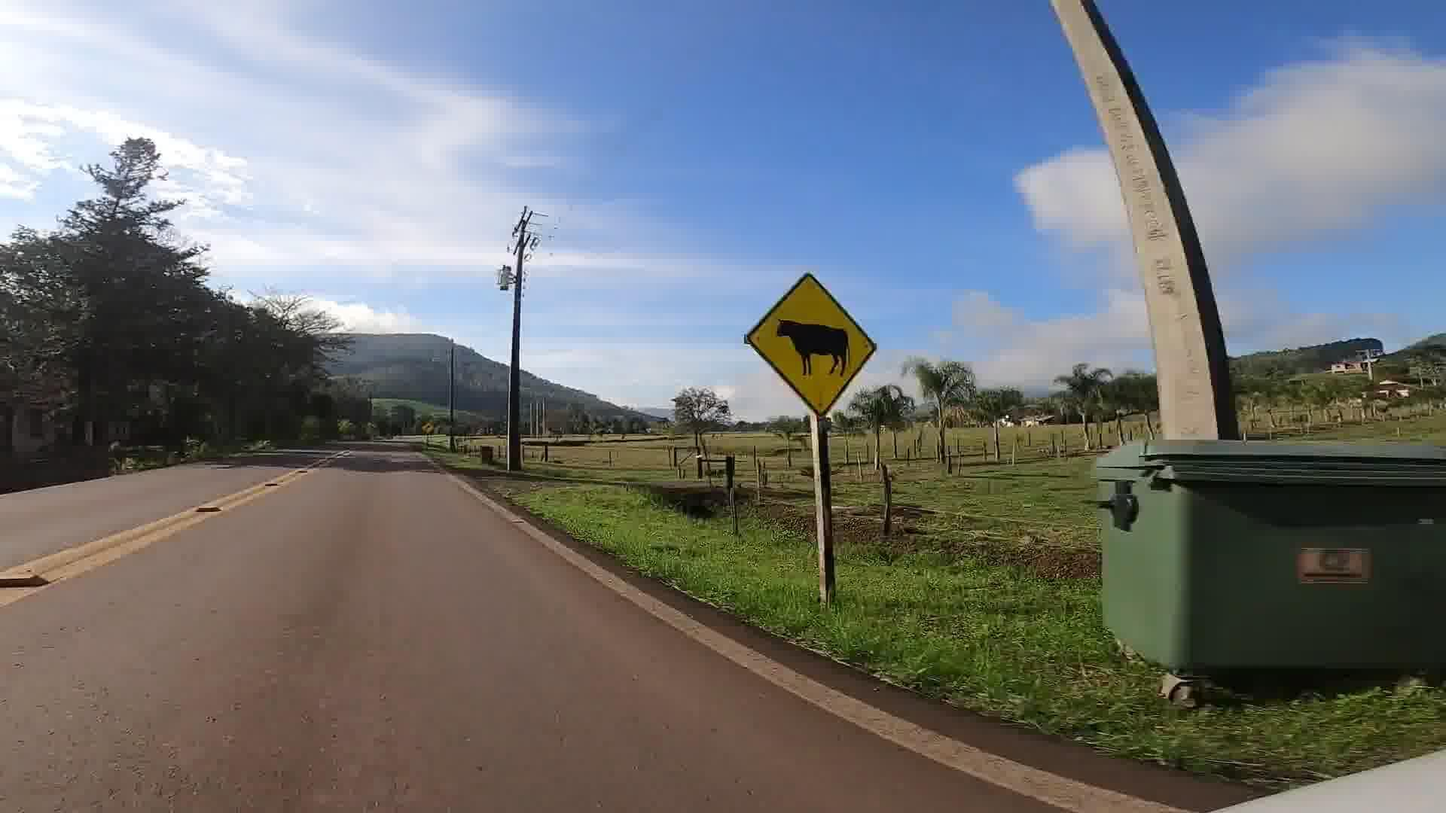A-35: (746, 279, 884, 413)
